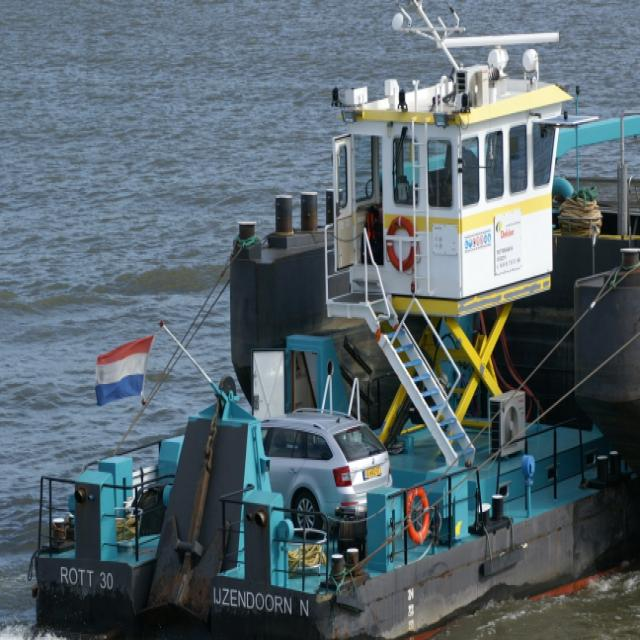tugboat: (24, 1, 638, 640)
